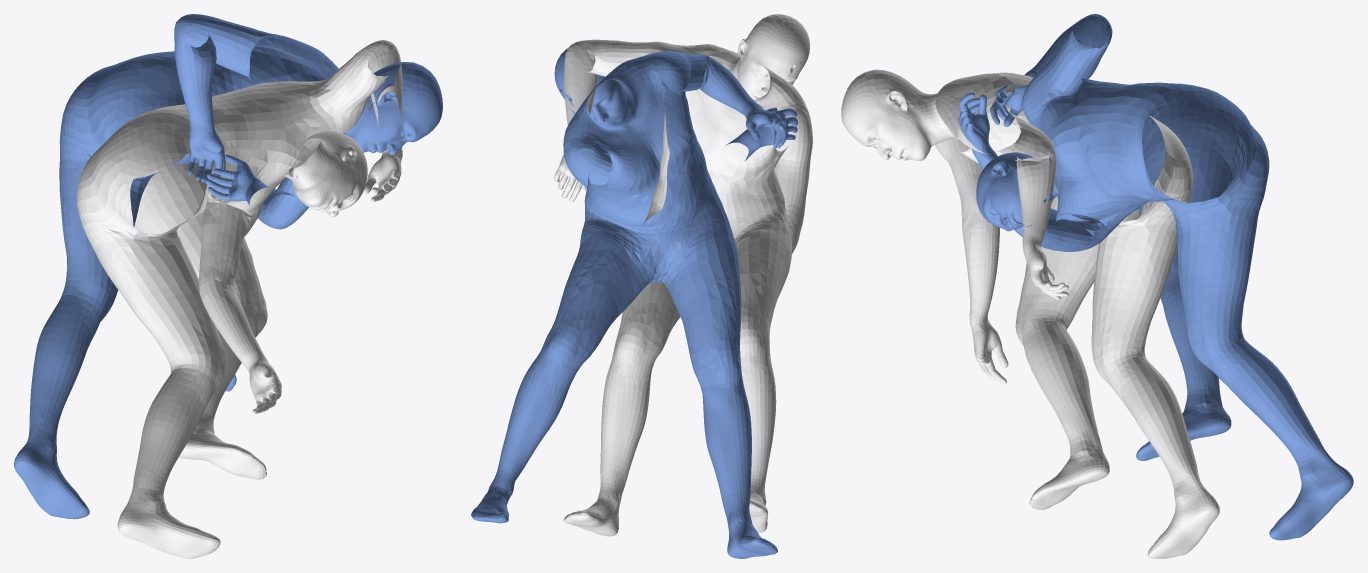
Rendered from hip-throw-2-step-in.glb.
3 views of the same model, side by side, from view 1: azimuth 30°, elevation 25°; view 2: azimuth 150°, elevation 25°; view 3: azimuth 270°, elevation 25° (orthographic). The views are drawn at different scales.
Parts seen in each view (by area): view 1: p0, p1; view 2: p1, p0; view 3: p1, p0.
Part boxes in pixels (x1=…): p0: x1=76, y1=40, x2=402, y2=558; p1: x1=14, y1=14, x2=442, y2=519; p1: x1=471, y1=48, x2=798, y2=558; p0: x1=554, y1=14, x2=812, y2=536; p1: x1=958, y1=14, x2=1353, y2=540; p0: x1=841, y1=69, x2=1219, y2=558.
Bounding box in the file's own units: 0.8695 × 1.34 × 1.25.
